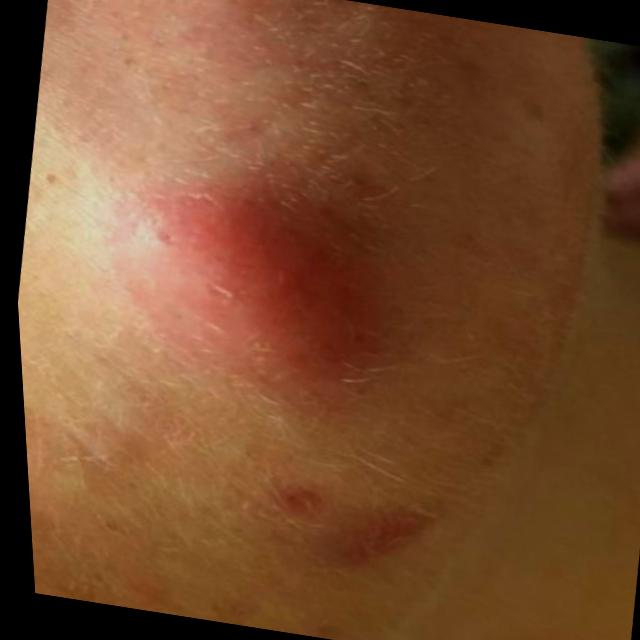nodule: (119, 175, 355, 410)
